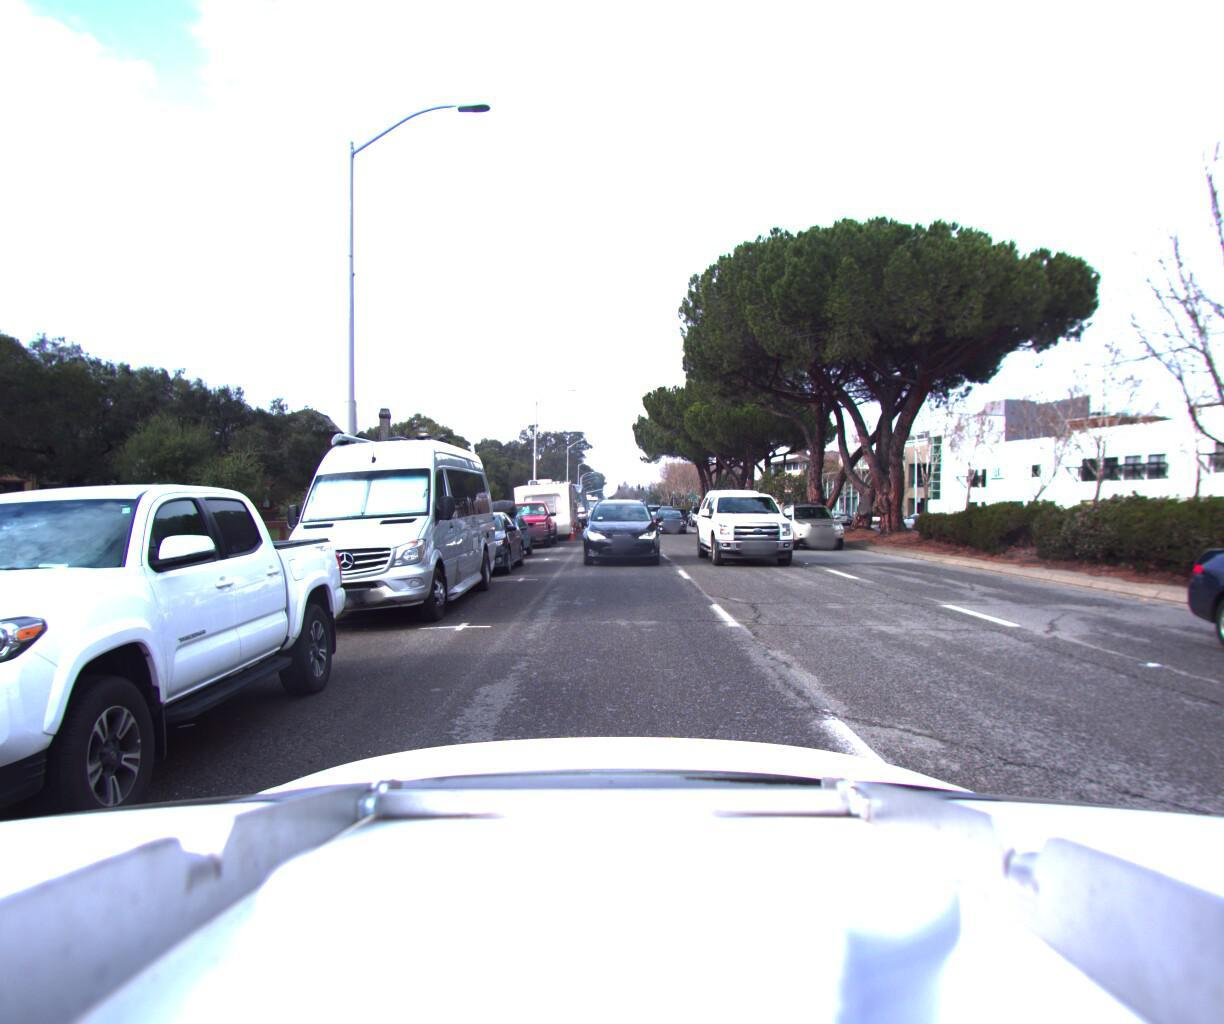car: (0, 434, 359, 959), (260, 400, 502, 637), (696, 471, 810, 569), (422, 505, 528, 574), (582, 493, 658, 565), (776, 494, 860, 549), (464, 492, 535, 556), (495, 494, 558, 546), (652, 498, 691, 532)
other_vehicle: (507, 470, 575, 539), (524, 476, 580, 531), (547, 479, 589, 527)
